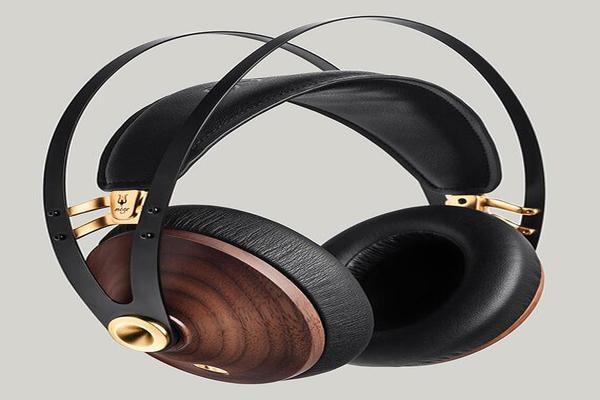headphone: (22, 25, 600, 398)
